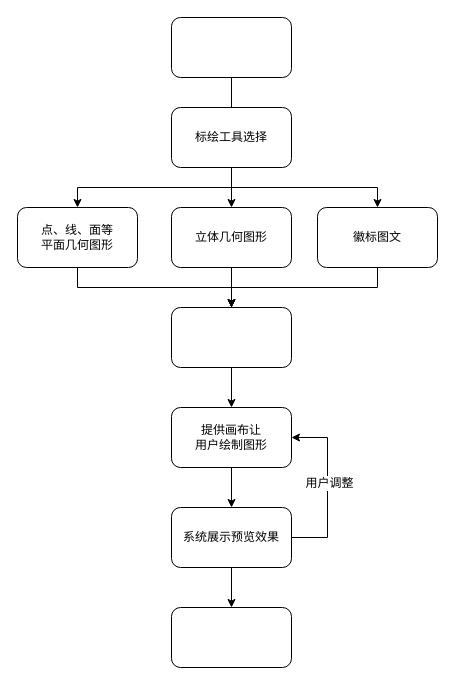
This 455x685 diagram has some shape labels left out. The centre of each missing label's shape, as x and y in pixels:
具体类型确定: (231,337)
基础标绘模块: (231,47)
用户确认输出标绘: (231,637)
